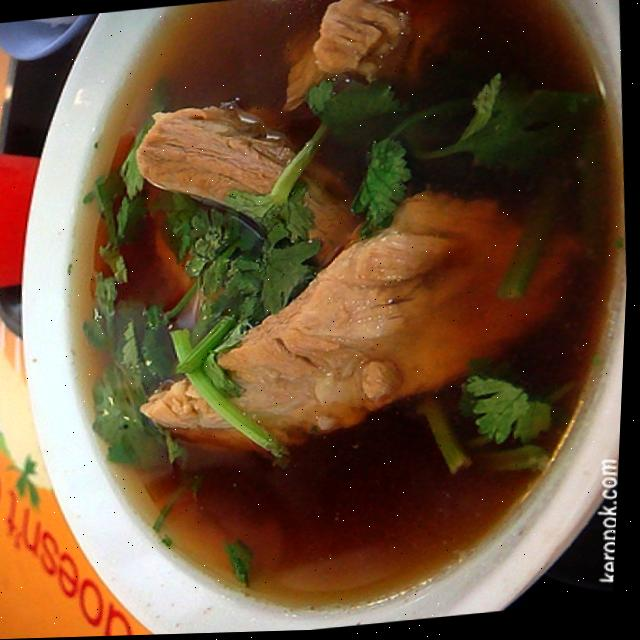汤锅炖物: (40, 0, 640, 612)
